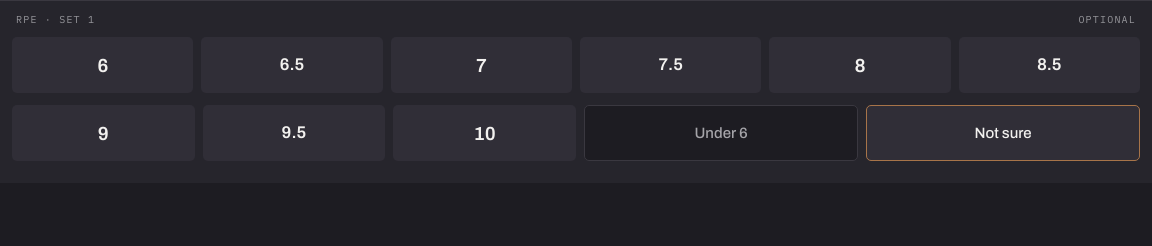
Scenario: RpeSheet's Under 6 sub-menu (F10) › opens 5, 4 and 3 in that order, nearest the grid first
What coordinates should you click on to do the following:
click the button "Under 6"
I would click on:
 (721, 133)
Its box is [584, 105, 858, 161].
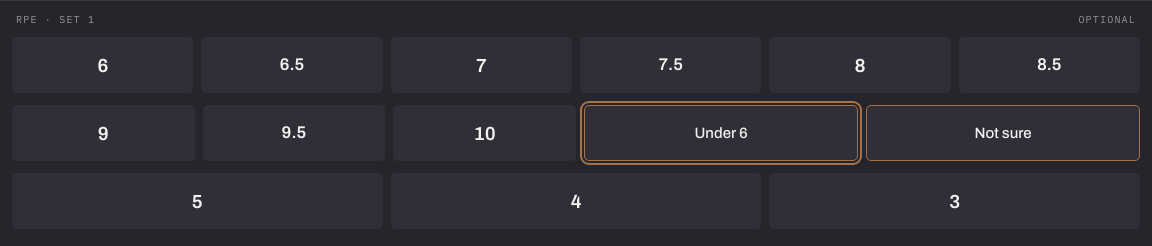
Now the button "Under 6" is expanded, box [584, 105, 858, 161]
Now the buttons read "5", "4", "3", in this order, box [12, 173, 383, 229]; [391, 173, 761, 229]; [769, 173, 1140, 229]
